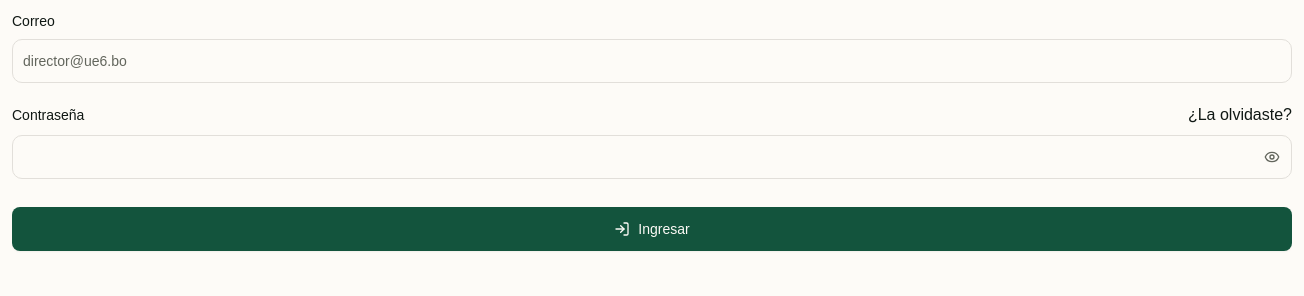
Test: LoginForm validation timing › reports an invalid email as soon as the field is left
The width and height of the screenshot is (1304, 296).
Type "not-an-email" into the field labelled "Correo" at (652, 61), box 12,39 -> 1292,83
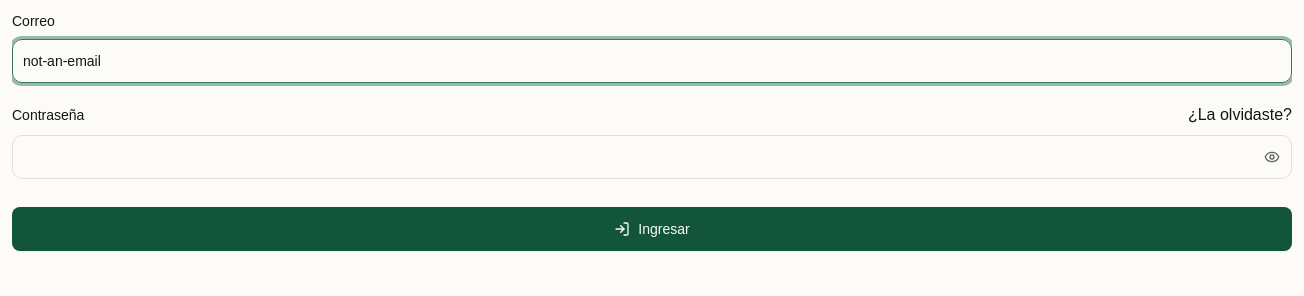
Check: the text "Correo inválido" is not shown
Press Tab
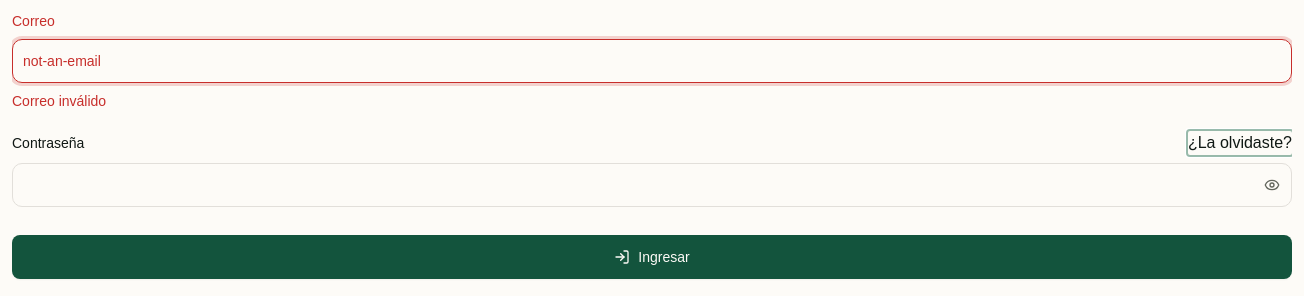
Check: the text "Correo inválido" is shown, box 12,93 -> 106,109
